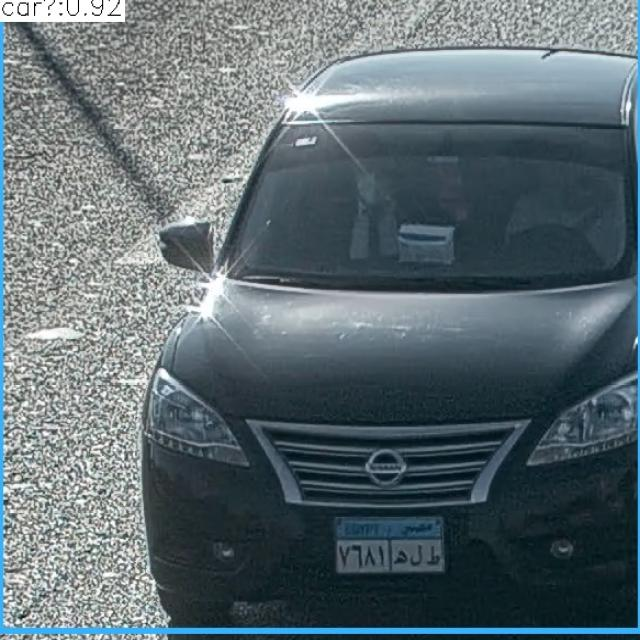windshield: (220, 134, 624, 287)
